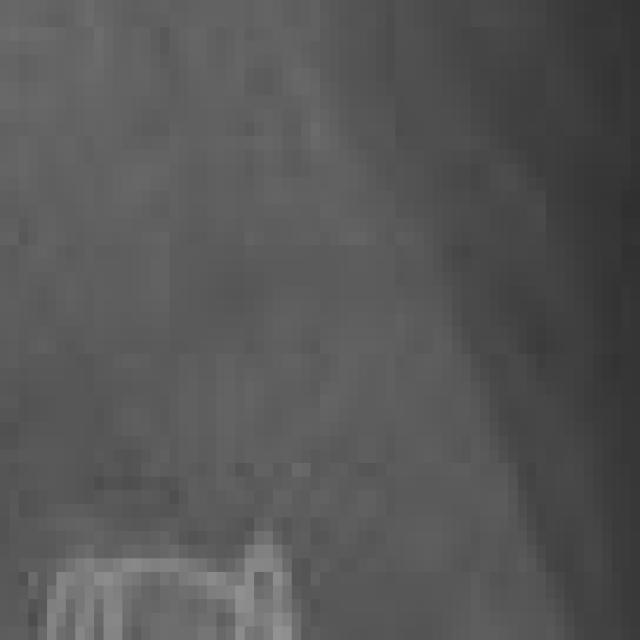fracture: (5, 0, 640, 640)
